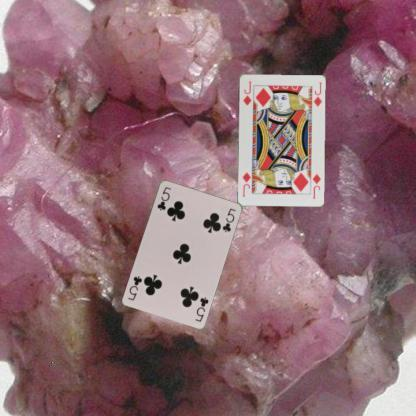5c: (192, 294, 210, 323), (154, 184, 172, 212)
Jd: (310, 170, 322, 199), (240, 78, 252, 106)
